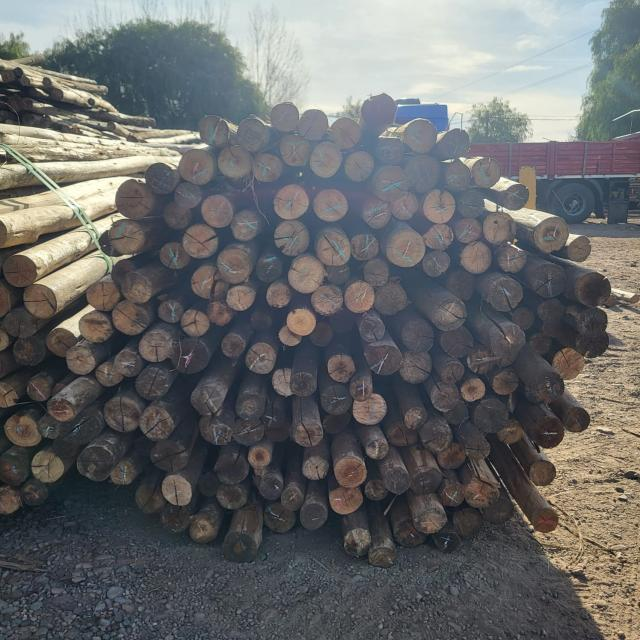package: (74, 94, 609, 563), (0, 201, 80, 525)
